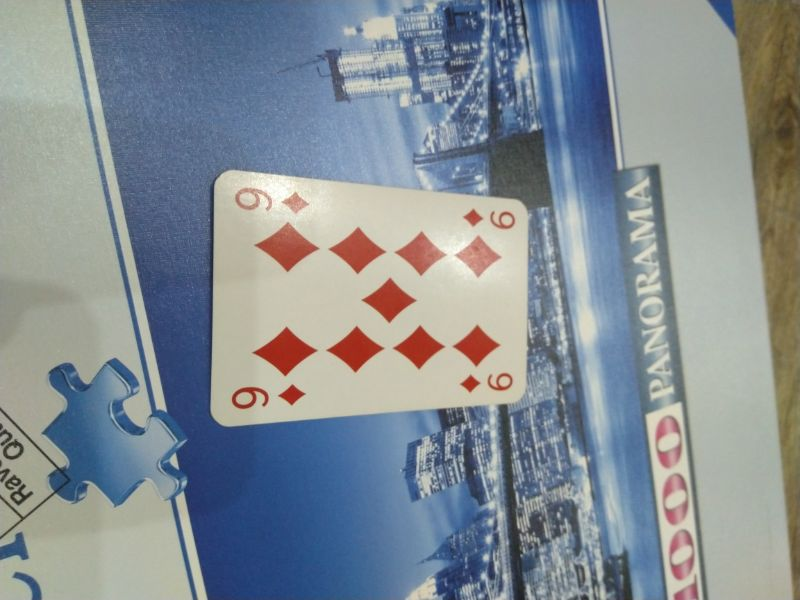9d: (230, 183, 315, 219), (230, 382, 309, 411), (458, 202, 520, 233), (456, 369, 517, 399)
